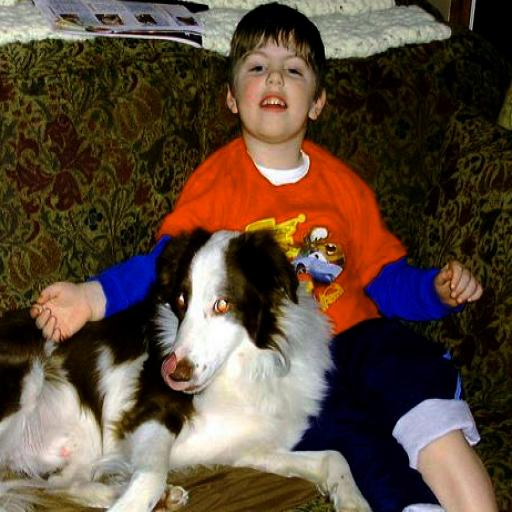dog_face: (152, 227, 286, 394)
